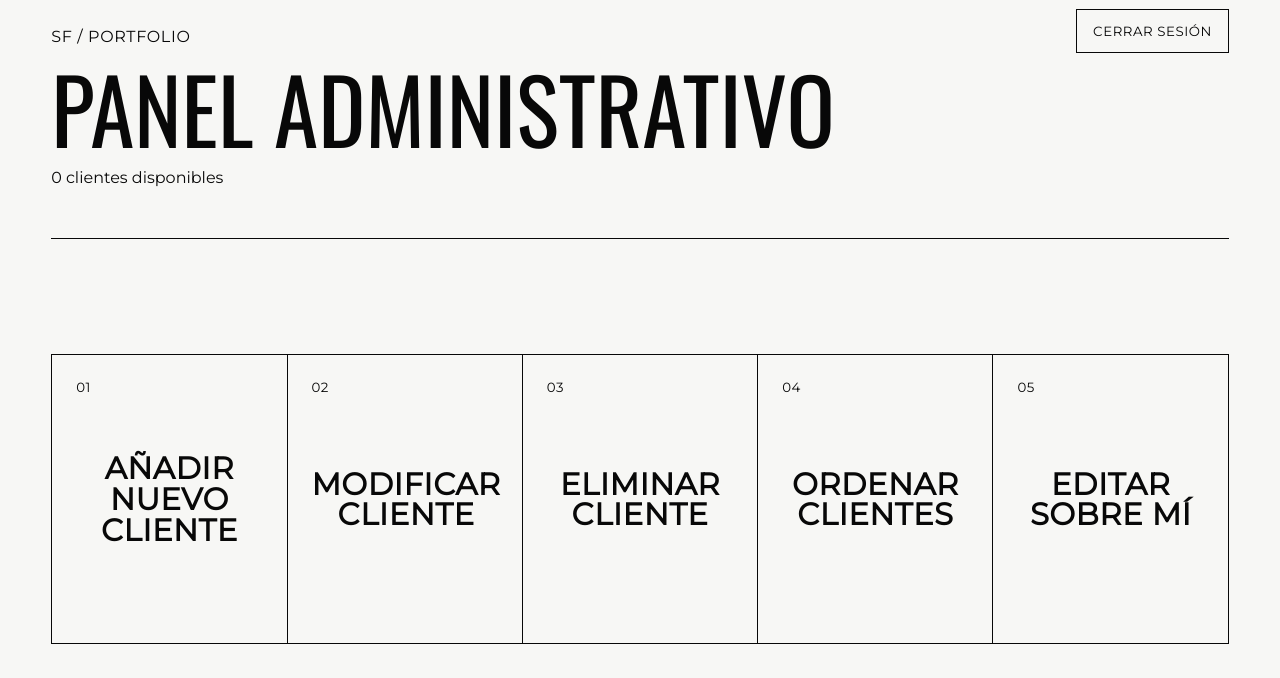
Test case: private portfolio admin › removes accents only from the visible Admin heading text
Click the button "01 Añadir nuevo cliente". click: (169, 500)
box: top-left (52, 356), bottom-right (286, 644)
(page scrolled)
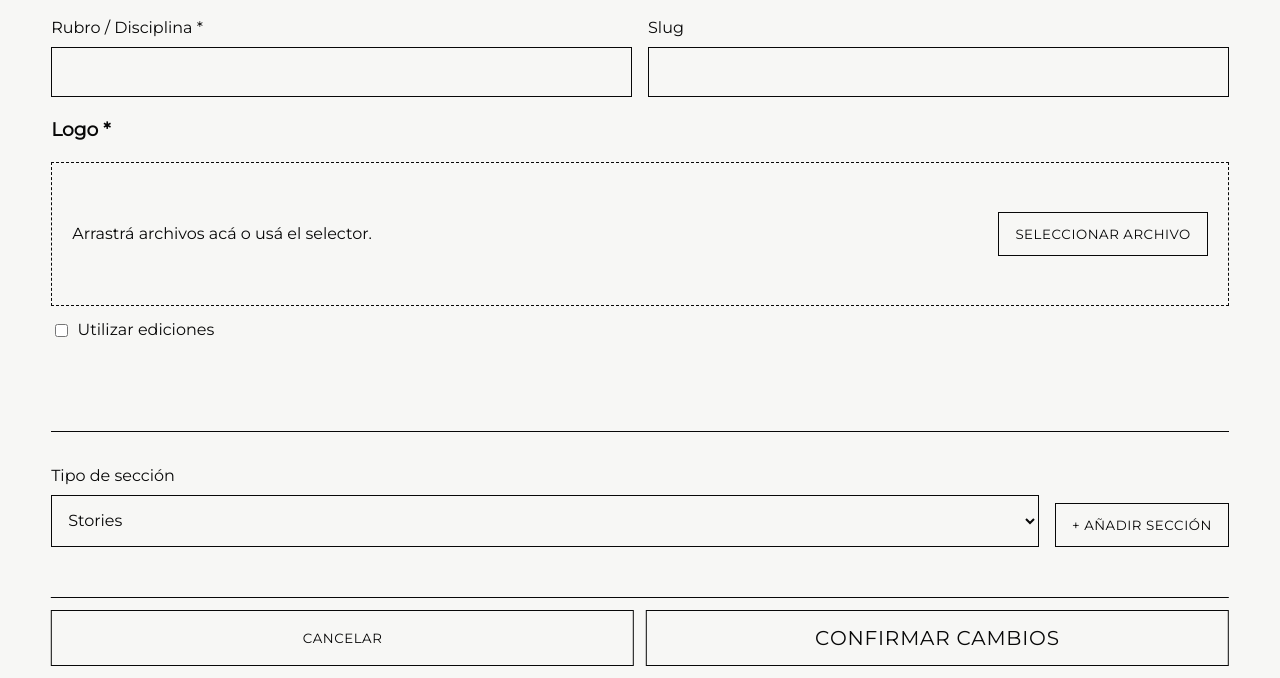
Select "Catálogos" in the dropdown labelled "Tipo de sección". click: (545, 521)
box: top-left (51, 495), bottom-right (1039, 547)
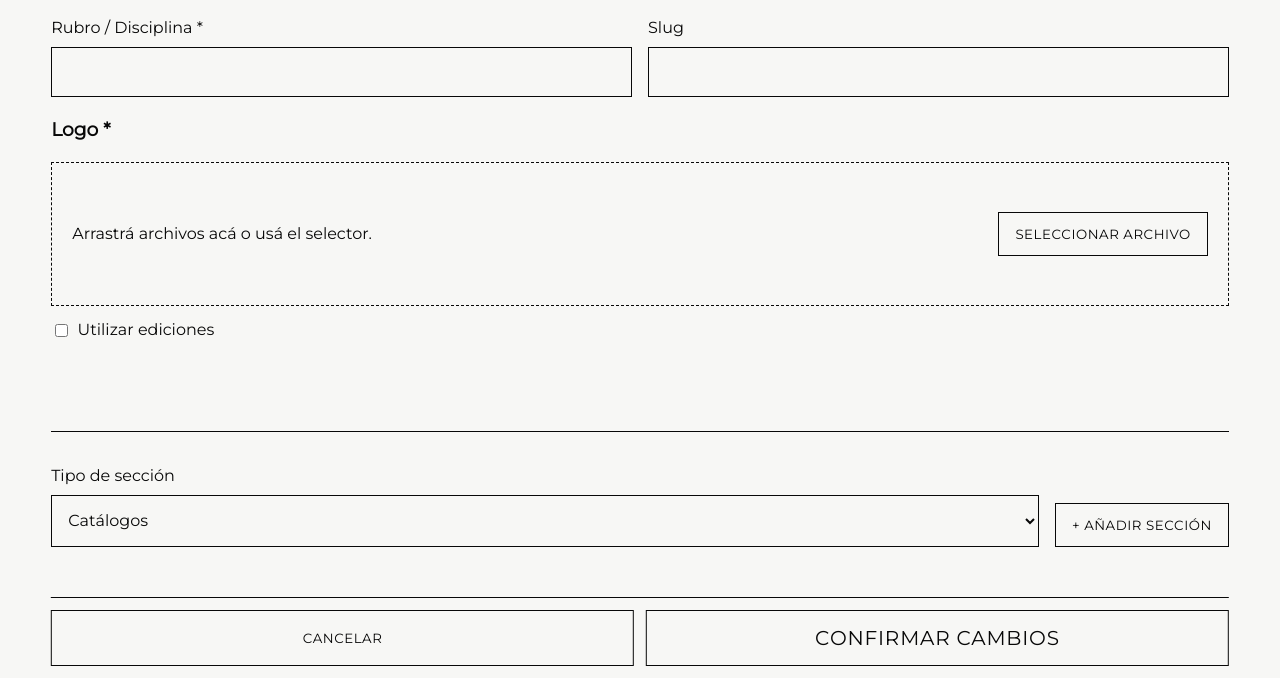
Click the button "+ Añadir sección". click: (1142, 525)
box: top-left (1055, 503), bottom-right (1229, 547)
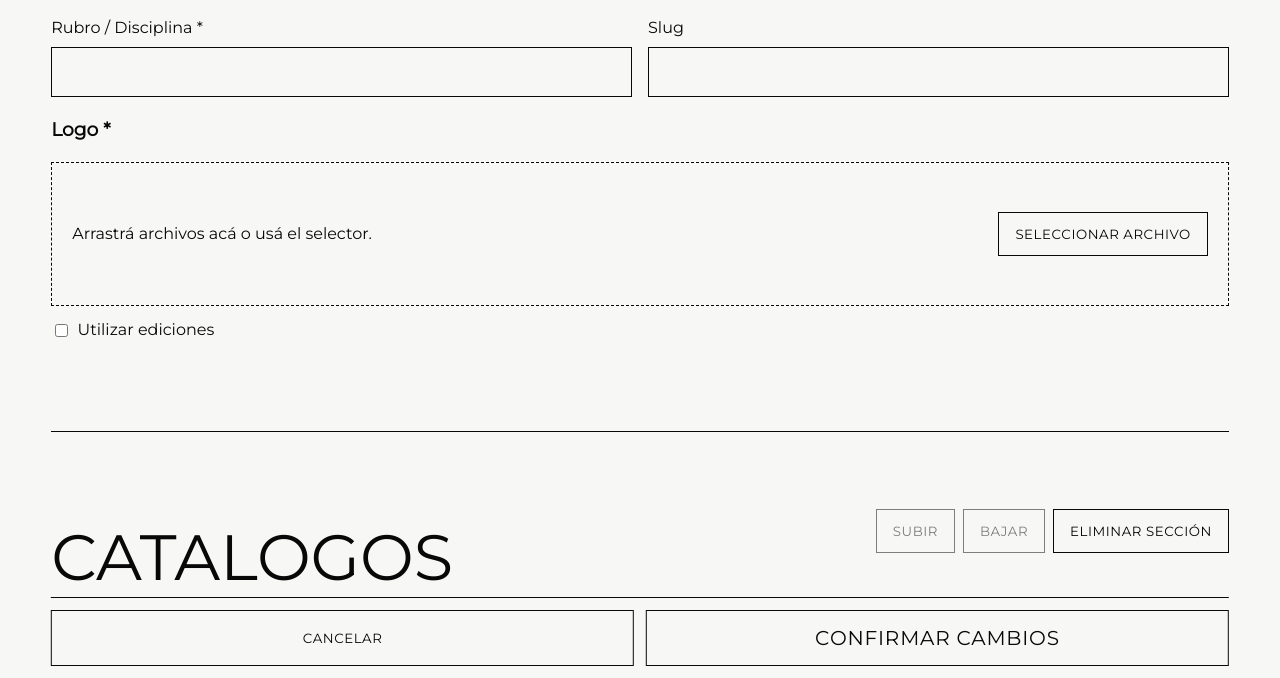
Now the heading named "Catálogos" reads "Catalogos", box top-left (51, 518), bottom-right (453, 596)
